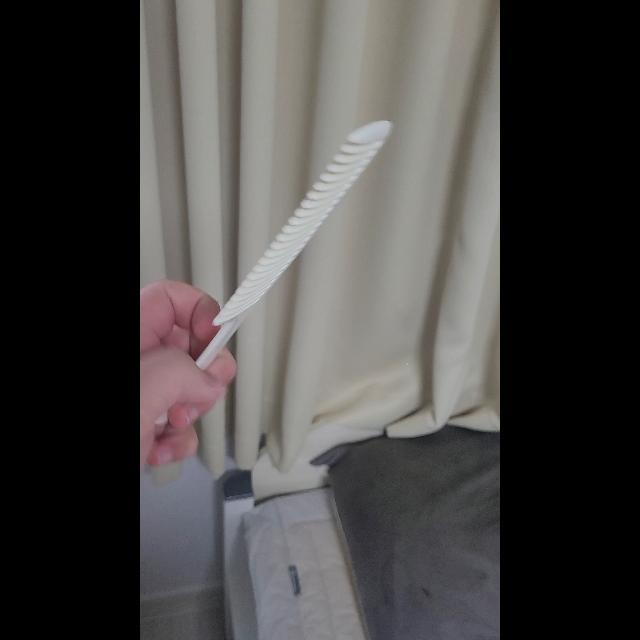COMB: (154, 120, 394, 428)
